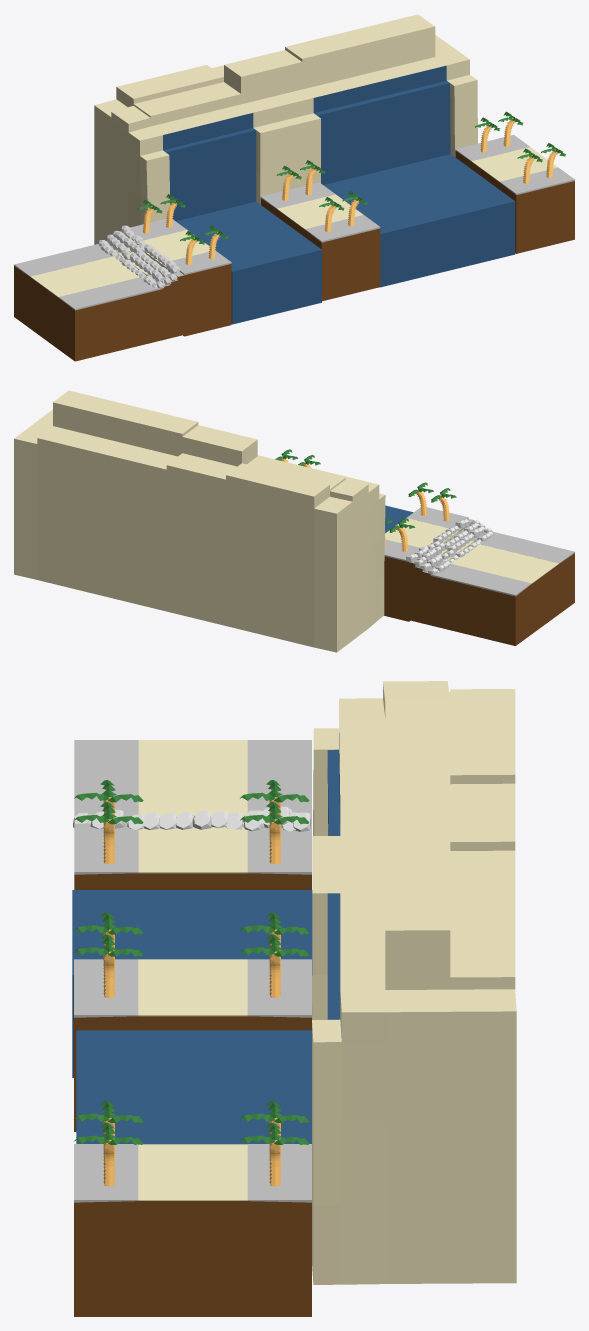
The model's file is platform.1.1.fbx.
3 renders of one model, top to bottom at view 1: azimuth 30°, elevation 25°; view 2: azimuth 150°, elevation 25°; view 3: azimuth 270°, elevation 25°, orthographic. The views are drawn at different scales.
Parts seen in each view (by area): view 1: Cube.041, Cube.001, Cube.013; view 2: Cube.041, Cube.001, Cube.013; view 3: Cube.041, Cube.001, Cube.013.
Part boxes in pixels (x1,y1,x2,y2): Cube.041: [94, 14, 515, 324]; Cube.001: [14, 135, 574, 361]; Cube.013: [137, 111, 565, 264]; Cube.041: [14, 390, 413, 652]; Cube.001: [384, 507, 574, 645]; Cube.013: [275, 449, 456, 551]; Cube.041: [72, 681, 516, 1284]; Cube.001: [74, 740, 311, 1316]; Cube.013: [74, 780, 309, 1186].
Size of the model in its own units: 7191 by 2349 by 2842.
